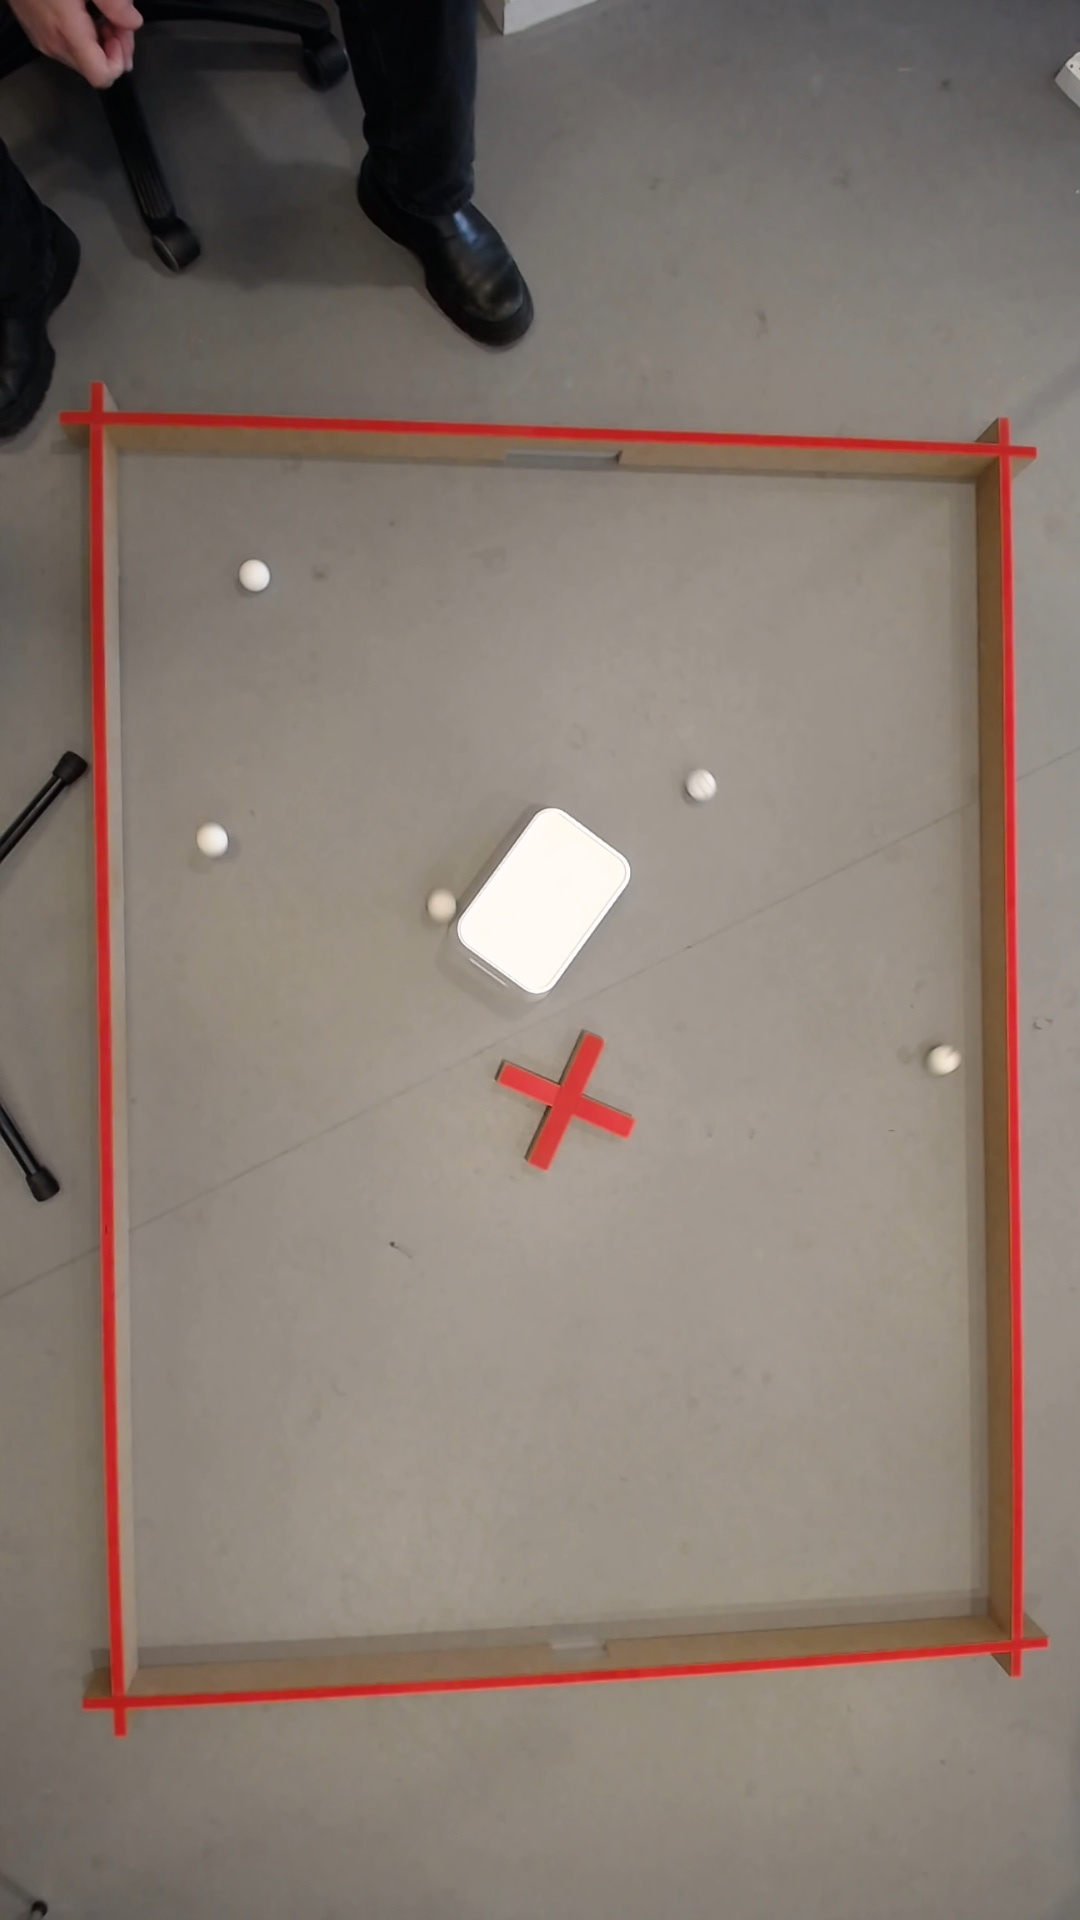balls: (446, 796, 640, 1002), (198, 822, 231, 855), (240, 558, 273, 589), (686, 769, 719, 800)
car: (931, 1046, 960, 1075)
